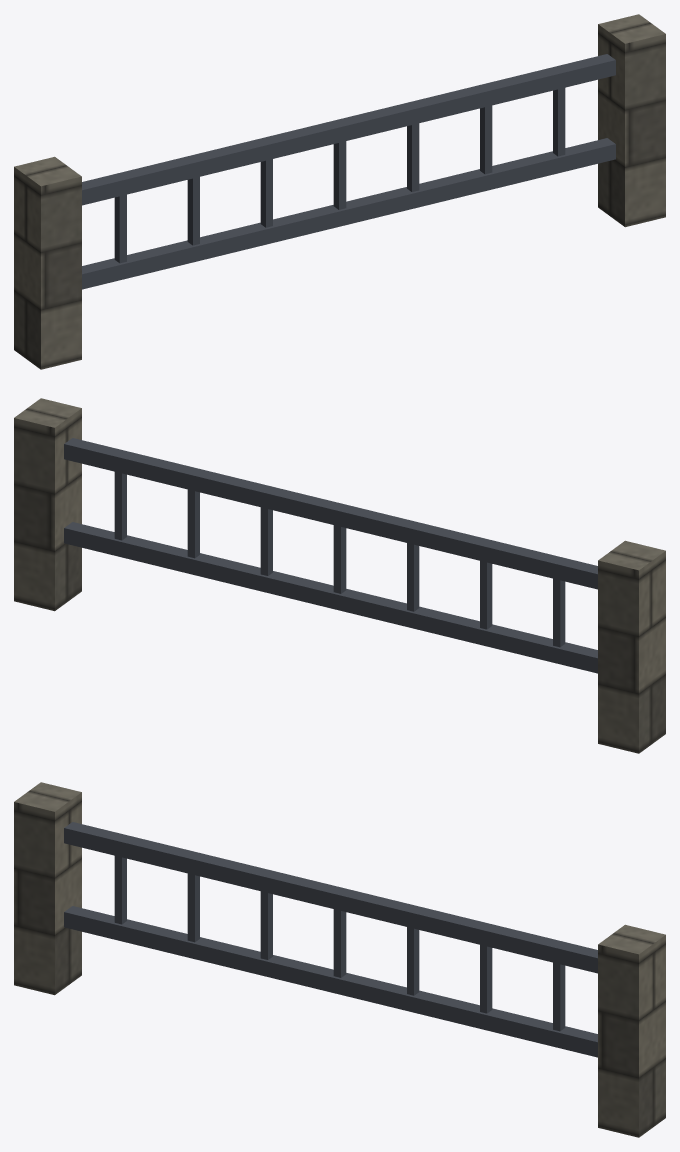
File: ENV_C_RiverRail_4m.fbx
The picture shows the model from 3 angles, top to bottom: view 1: azimuth 30°, elevation 25°; view 2: azimuth 150°, elevation 25°; view 3: azimuth 330°, elevation 25°; orthographic projection.
Parts seen in each view (by area): view 1: ENV_C_RiverRail_4m; view 2: ENV_C_RiverRail_4m; view 3: ENV_C_RiverRail_4m.
Boxes of the visible parts, box(x1,y1,x2,y2) form: ENV_C_RiverRail_4m: box(14, 14, 665, 369); ENV_C_RiverRail_4m: box(14, 398, 665, 753); ENV_C_RiverRail_4m: box(14, 782, 665, 1137).
Size of the model in its own units: 428 by 120 by 32.
2 materials, 1 textured.
